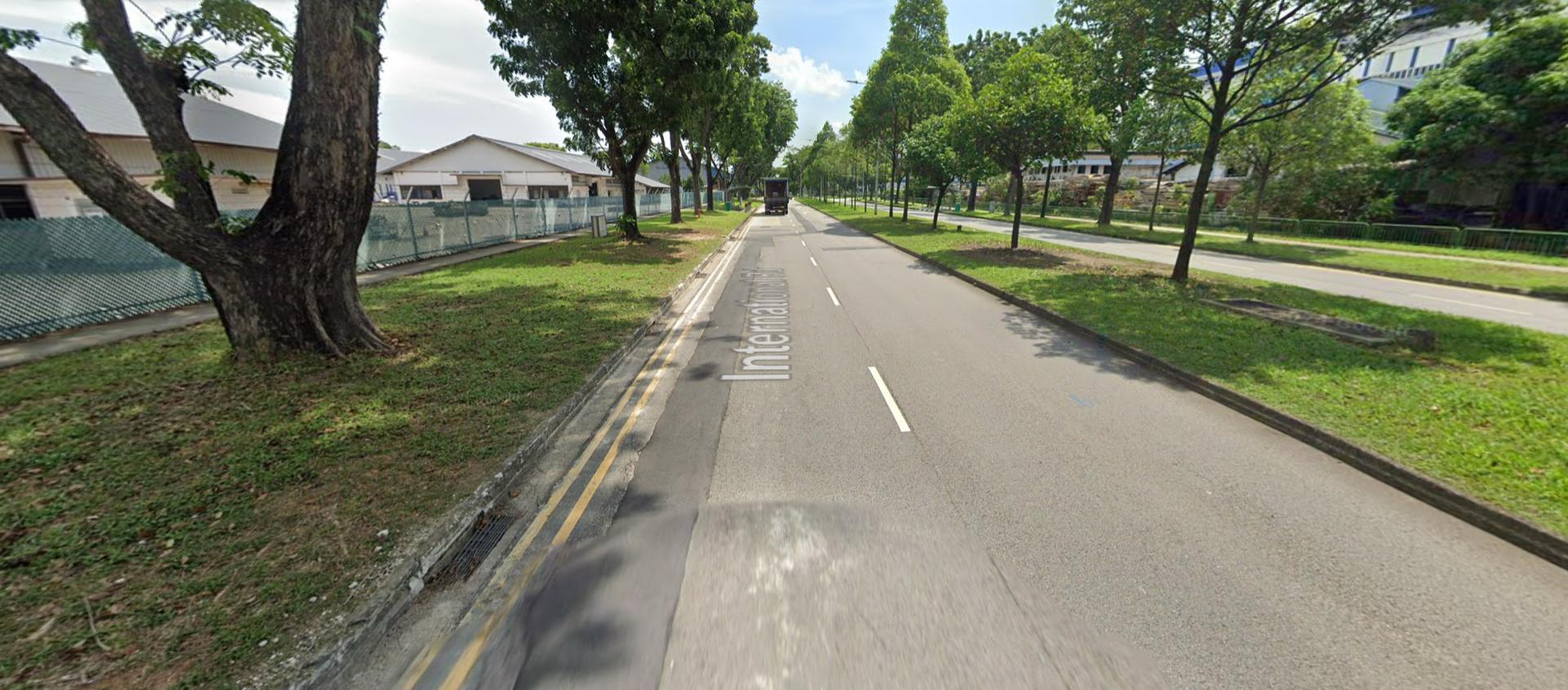normal: (435, 512, 520, 583)
